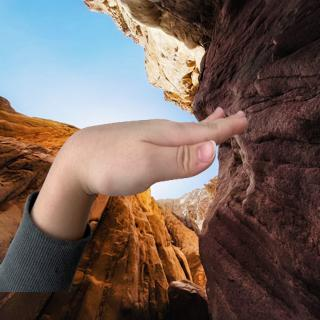Wait: (46, 99, 252, 206)
